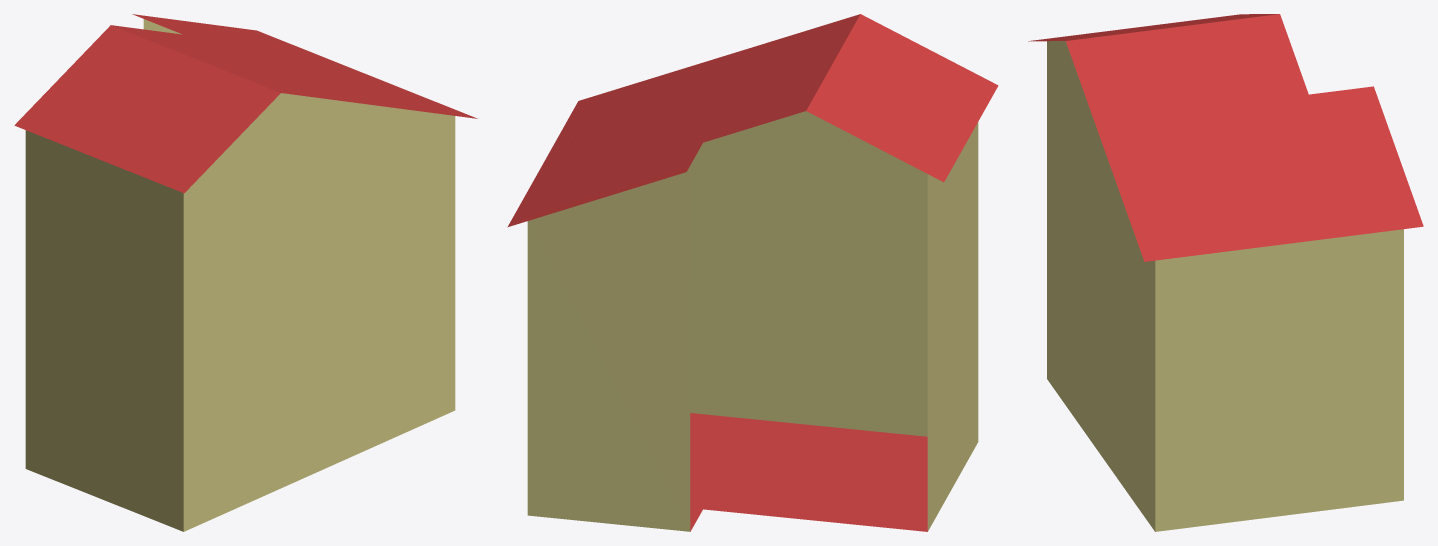
3 views of the same model, side by side, from view 1: azimuth 30°, elevation 25°; view 2: azimuth 150°, elevation 25°; view 3: azimuth 270°, elevation 25° (orthographic). The views are drawn at different scales.
Bounding box in the file's own units: 7.18 × 6.23 × 6.72.
